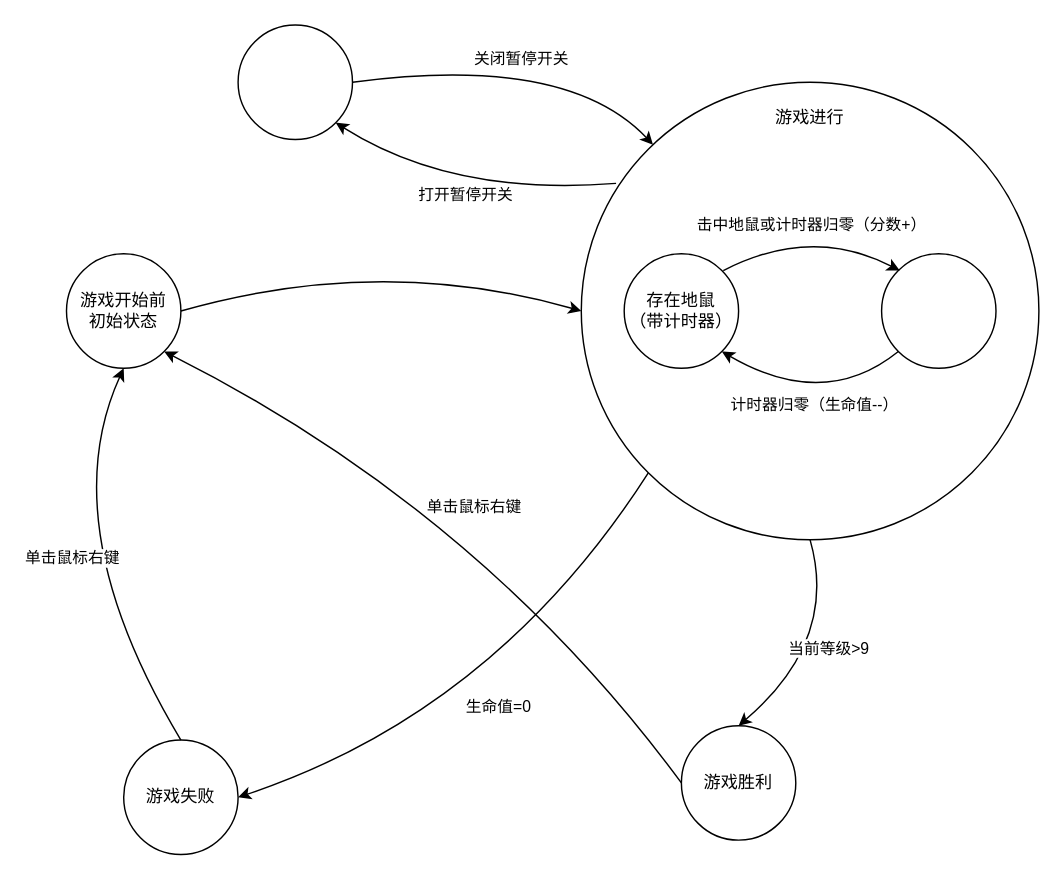
The diagram is 1064 pixels wide and 879 high, and some of its shapes have lost their labels. Here are the shapes that lost their labels. From the top down, the box of each, then its label:
(237, 24, 352, 139): 游戏暂停
(880, 252, 996, 368): 不存在地鼠 （带计时器）
